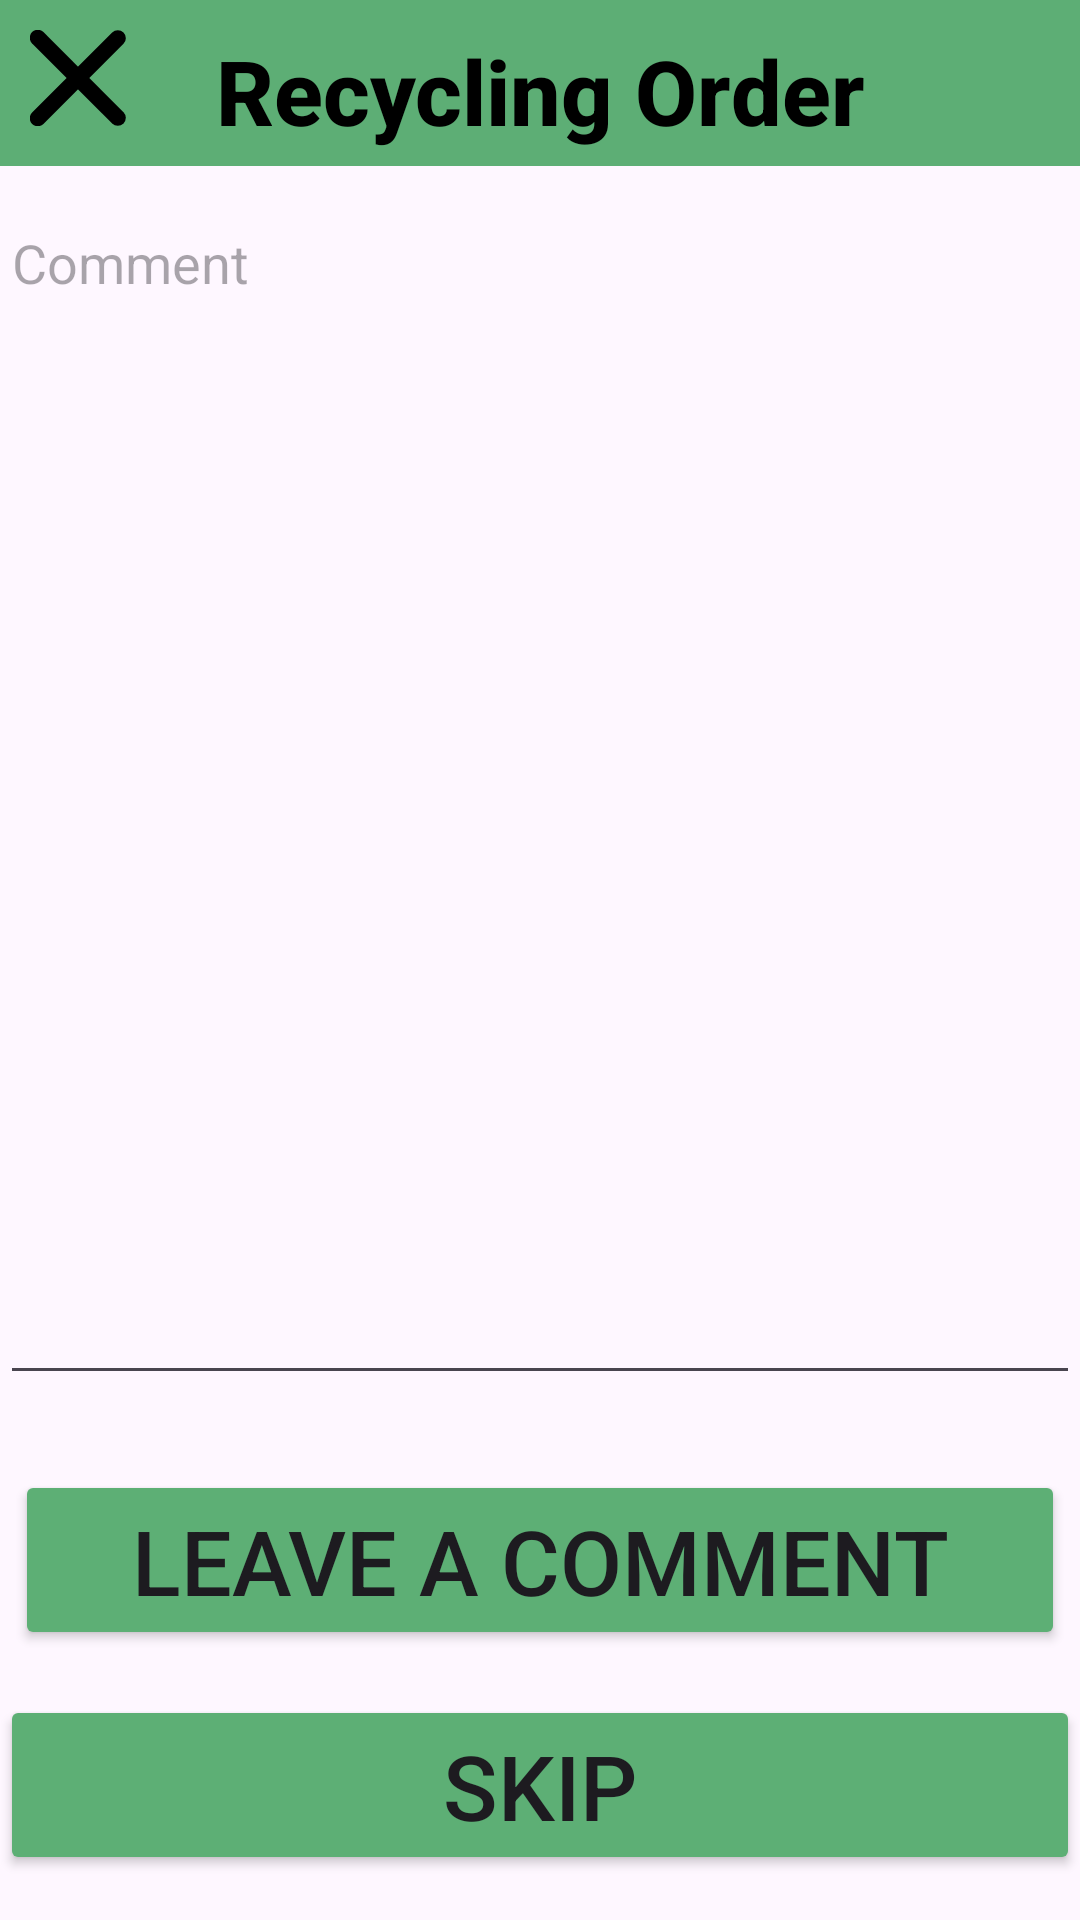

Where to tap for icons on this 1080 x 1920 app screen, as [x,y]:
close: [78,78]
